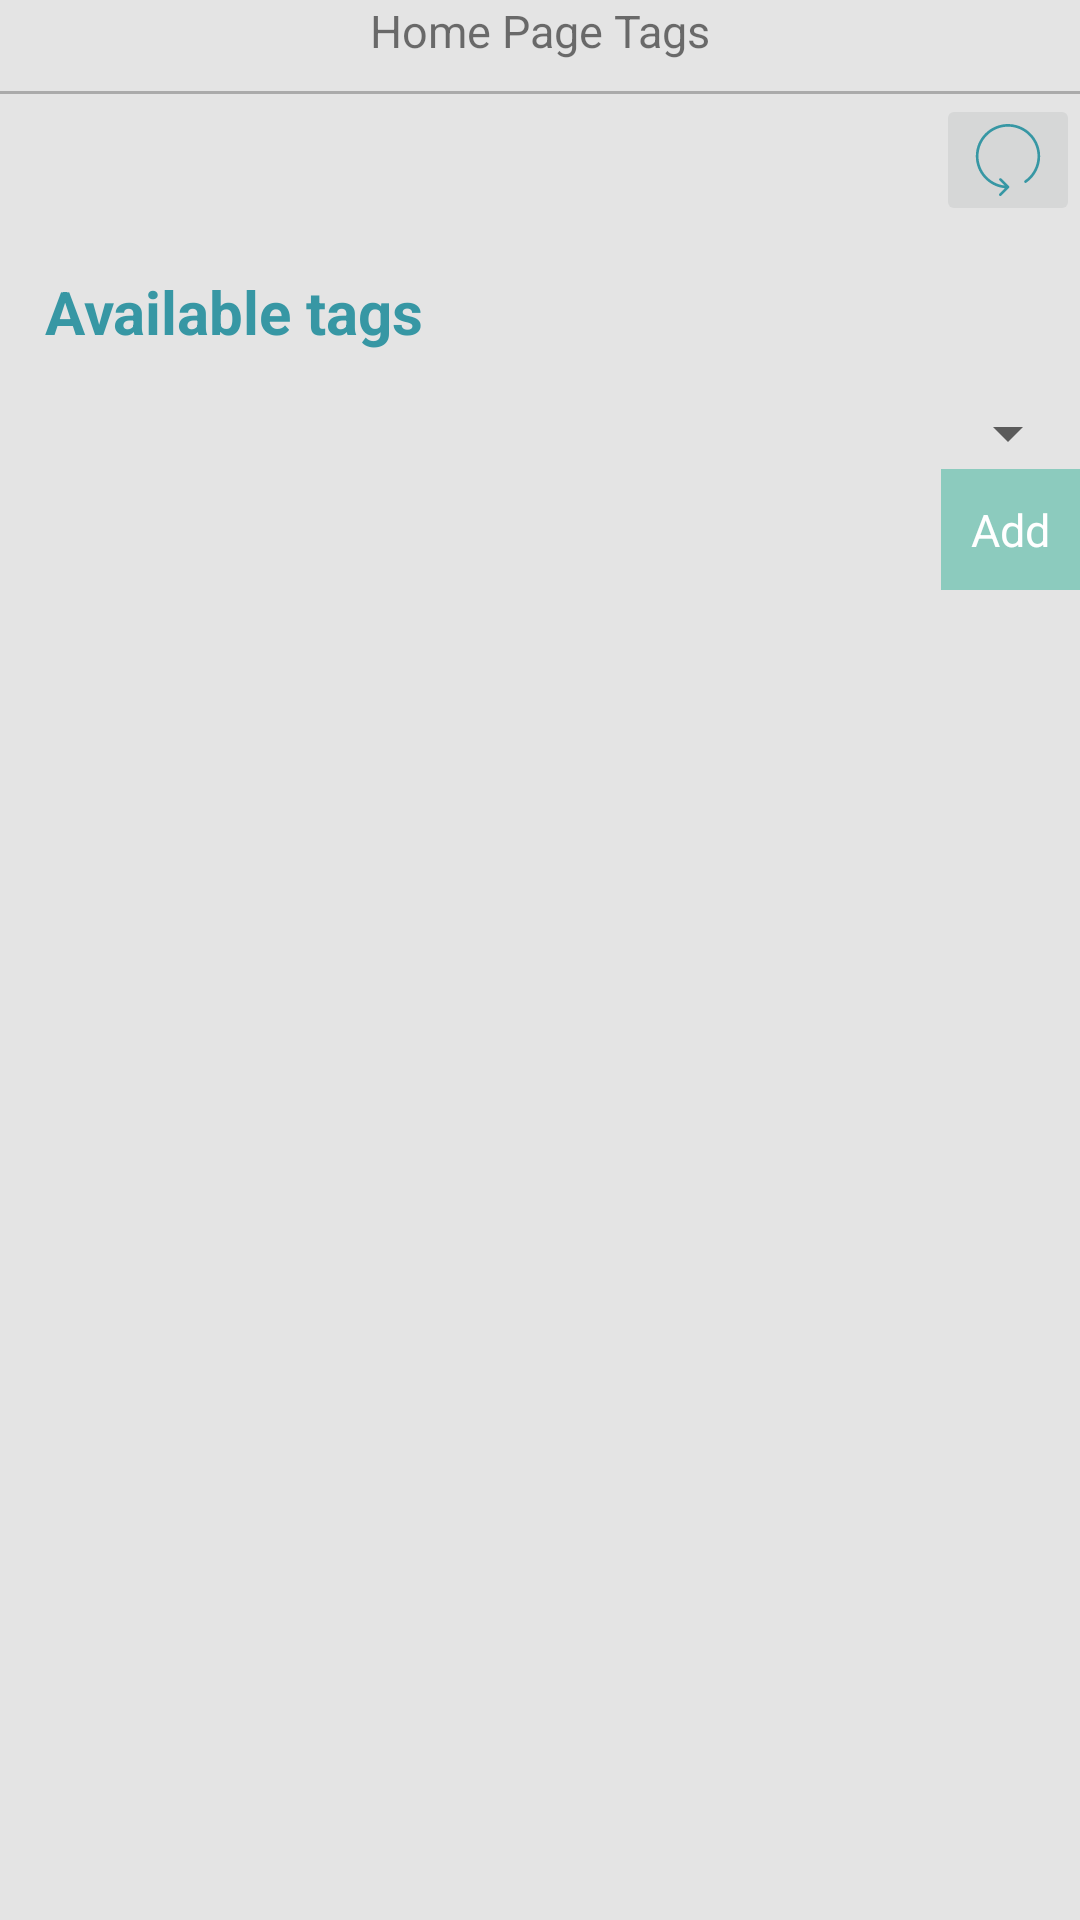

Icon click points for this 1080*1920 phone screenshot, format (x,y):
circular arrow: (1008,160)
